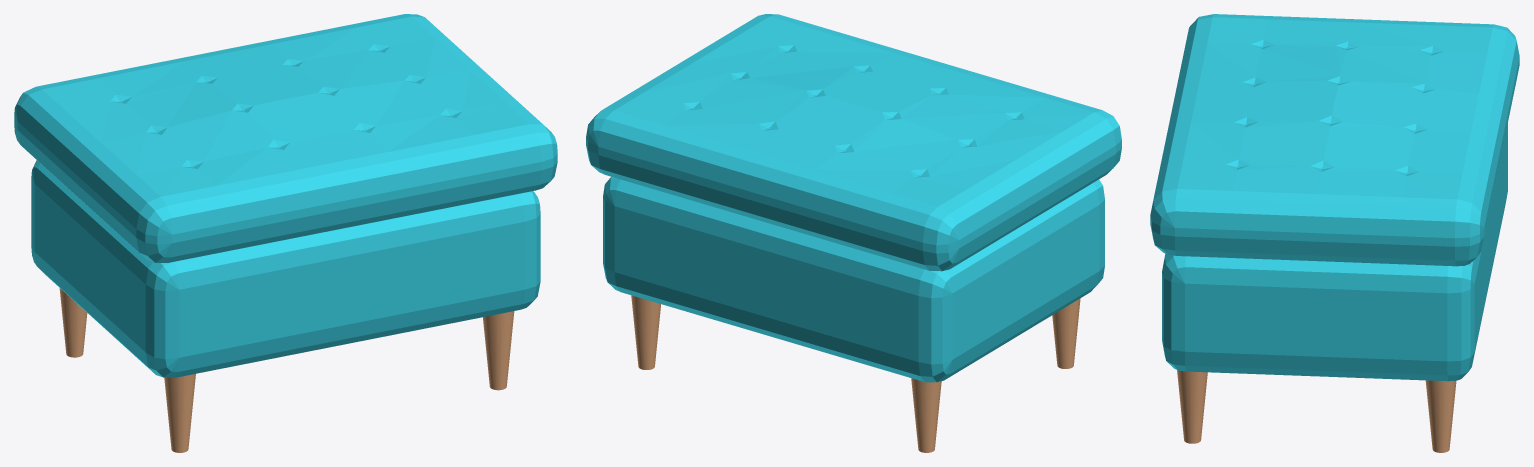
File: 9dHdNAcgrLM.glb
3 renders of one model, left to right at view 1: azimuth 30°, elevation 25°; view 2: azimuth 150°, elevation 25°; view 3: azimuth 270°, elevation 25°, orthographic. The views are drawn at different scales.
Parts seen in each view (by area): view 1: Box001, Cylinder001; view 2: Box001, Cylinder001; view 3: Box001, Cylinder001.
Part boxes in pixels (left/top/right/bottom): Box001: left=14, top=14, right=557, bottom=377; Cylinder001: left=59, top=288, right=514, bottom=452; Box001: left=586, top=14, right=1121, bottom=382; Cylinder001: left=631, top=295, right=1080, bottom=452; Box001: left=1150, top=14, right=1519, bottom=381; Cylinder001: left=1177, top=370, right=1456, bottom=452.
Bounding box in the file's own units: 1.62 × 1 × 1.24.
